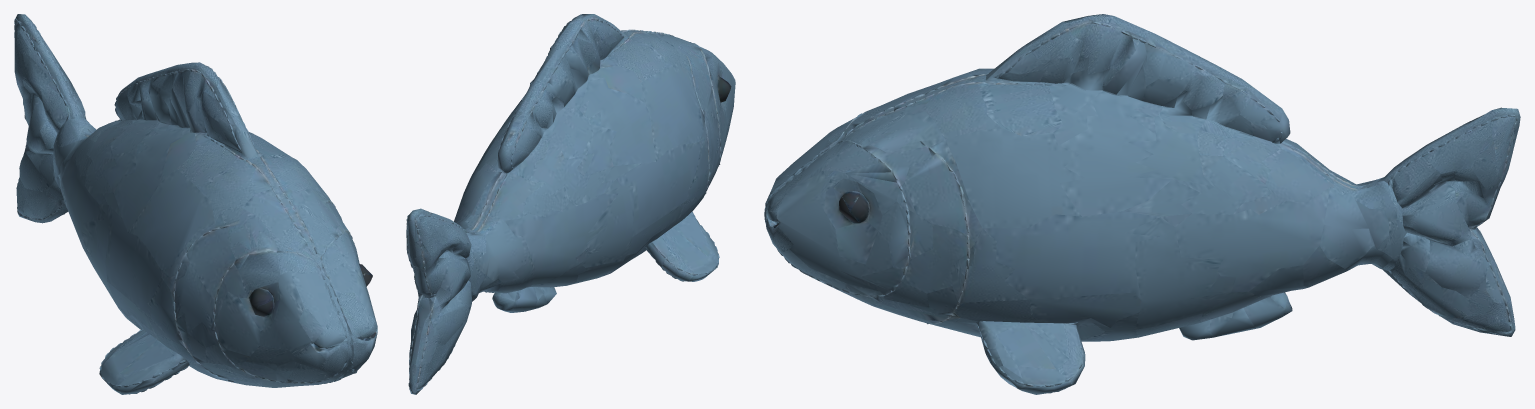
File: fabric-fish.glb
3 views of the same model, side by side, from view 1: azimuth 30°, elevation 25°; view 2: azimuth 150°, elevation 25°; view 3: azimuth 270°, elevation 25° (orthographic). The views are drawn at different scales.
Bounding box in the file's own units: 0.8108 × 0.8916 × 1.9.
Materials: 1 (1 with a texture image).
